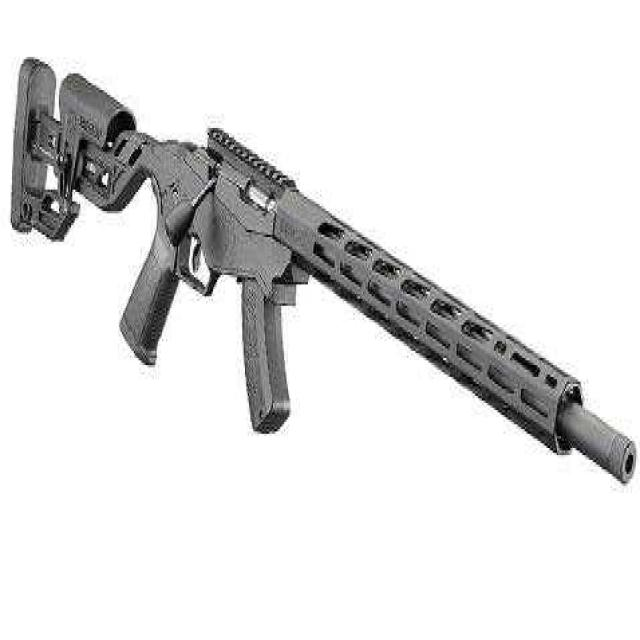heavyweapon: (9, 49, 640, 528)
